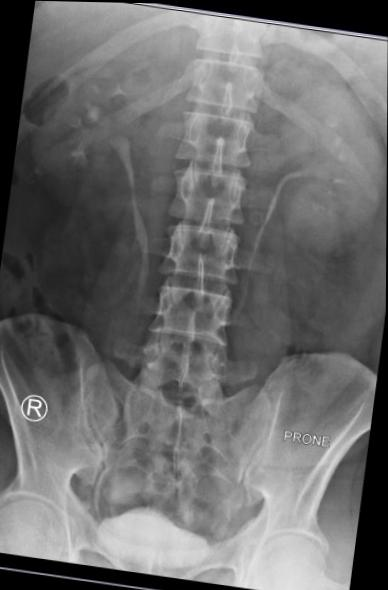bladder: (90, 502, 219, 585)
vertebrae: (179, 98, 256, 165)
